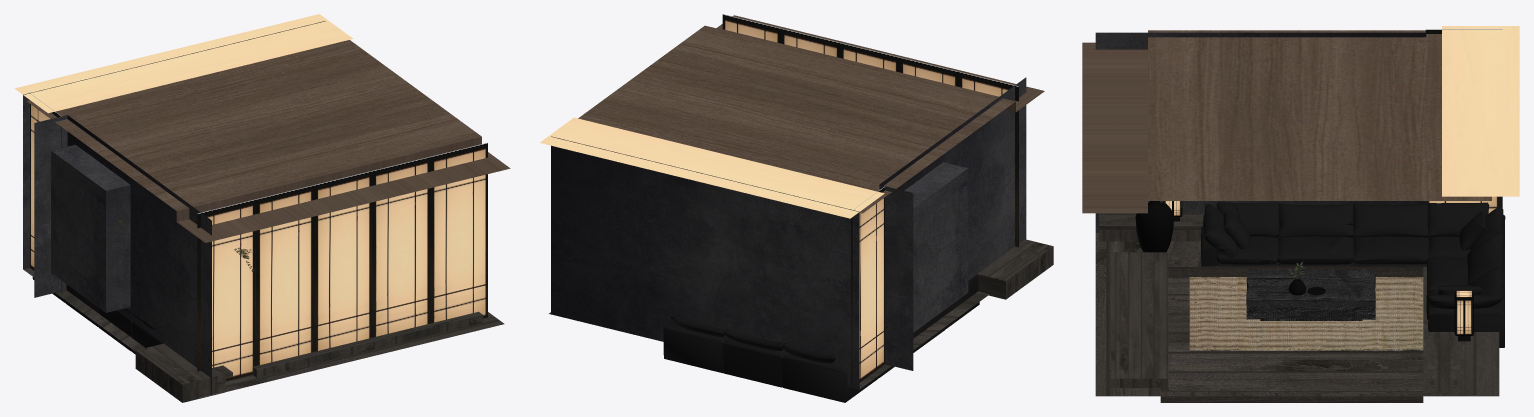
The model's file is loft_16_interior (1).glb.
3 views of the same model, side by side, from view 1: azimuth 30°, elevation 25°; view 2: azimuth 150°, elevation 25°; view 3: azimuth 270°, elevation 25° (orthographic). The views are drawn at different scales.
Visible parts, largest first — view 1: Plane.003, Plane.006, Plane.005, Plane.023, Plane, Plane.008, Plane.007, Plane.002, node_0.002_S-Remesh.003, Plane.004; view 2: Plane.002, Plane.003, Plane.005, Plane.023, node_0.002_S-Remesh.003, Plane.006, Plane.004, Plane.008, Plane; view 3: Plane.003, Plane, node_0.002_S-Remesh.003, Plane.023, Plane.001, Plane.007, Cube.003, Plane.005, Plane.008, Cube.006, Cube, Plane.004.
Boxes of the visible parts, x1,y1,x2,y2 form: Plane.003: (26, 40, 510, 242); Plane.006: (197, 142, 487, 381); Plane.005: (34, 115, 211, 394); Plane.023: (14, 14, 353, 113); Plane: (23, 268, 504, 398); Plane.008: (135, 343, 232, 402); Plane.007: (252, 311, 482, 377); Plane.002: (23, 21, 325, 269); node_0.002_S-Remesh.003: (32, 277, 163, 354); Plane.004: (28, 92, 61, 290); Plane.002: (551, 136, 859, 389); Plane.003: (578, 15, 1044, 213); Plane.005: (879, 77, 1026, 370); Plane.023: (539, 117, 884, 218); node_0.002_S-Remesh.003: (663, 274, 979, 402); Plane.006: (722, 14, 1018, 247); Plane.004: (851, 186, 884, 388); Plane.008: (977, 239, 1053, 299); Plane: (549, 291, 989, 389); Plane.003: (1082, 30, 1491, 213); Plane: (1095, 232, 1499, 402); node_0.002_S-Remesh.003: (1201, 202, 1505, 347); Plane.023: (1442, 26, 1519, 196); Plane.001: (1189, 277, 1423, 351); Plane.007: (1111, 252, 1168, 390); Cube.003: (1246, 269, 1375, 320); Plane.005: (1095, 32, 1426, 232); Plane.008: (1099, 213, 1204, 241); Cube.006: (1135, 201, 1173, 252); Cube: (1454, 290, 1473, 341); Plane.004: (1425, 29, 1502, 213).
Size of the model in its own units: 15.95 by 8.84 by 16.2.
Materials: 11 (9 with a texture image).
